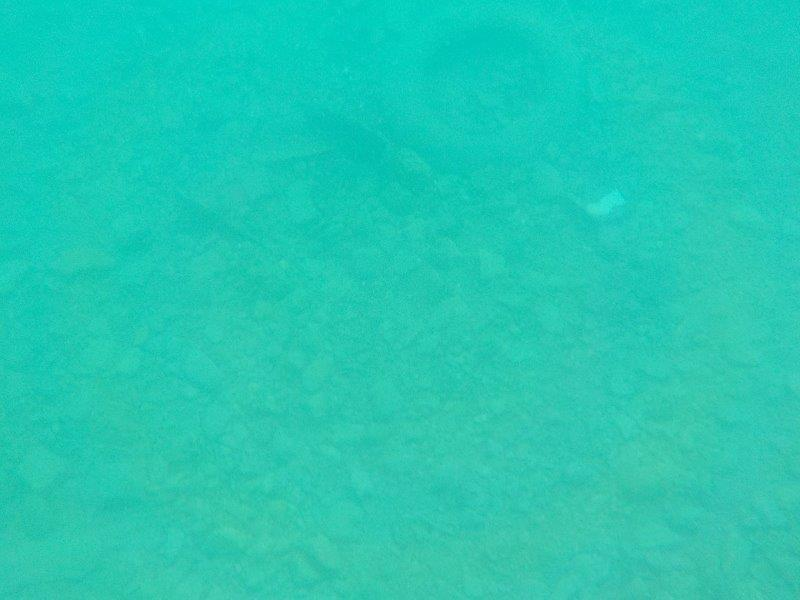tire: (378, 7, 589, 164)
